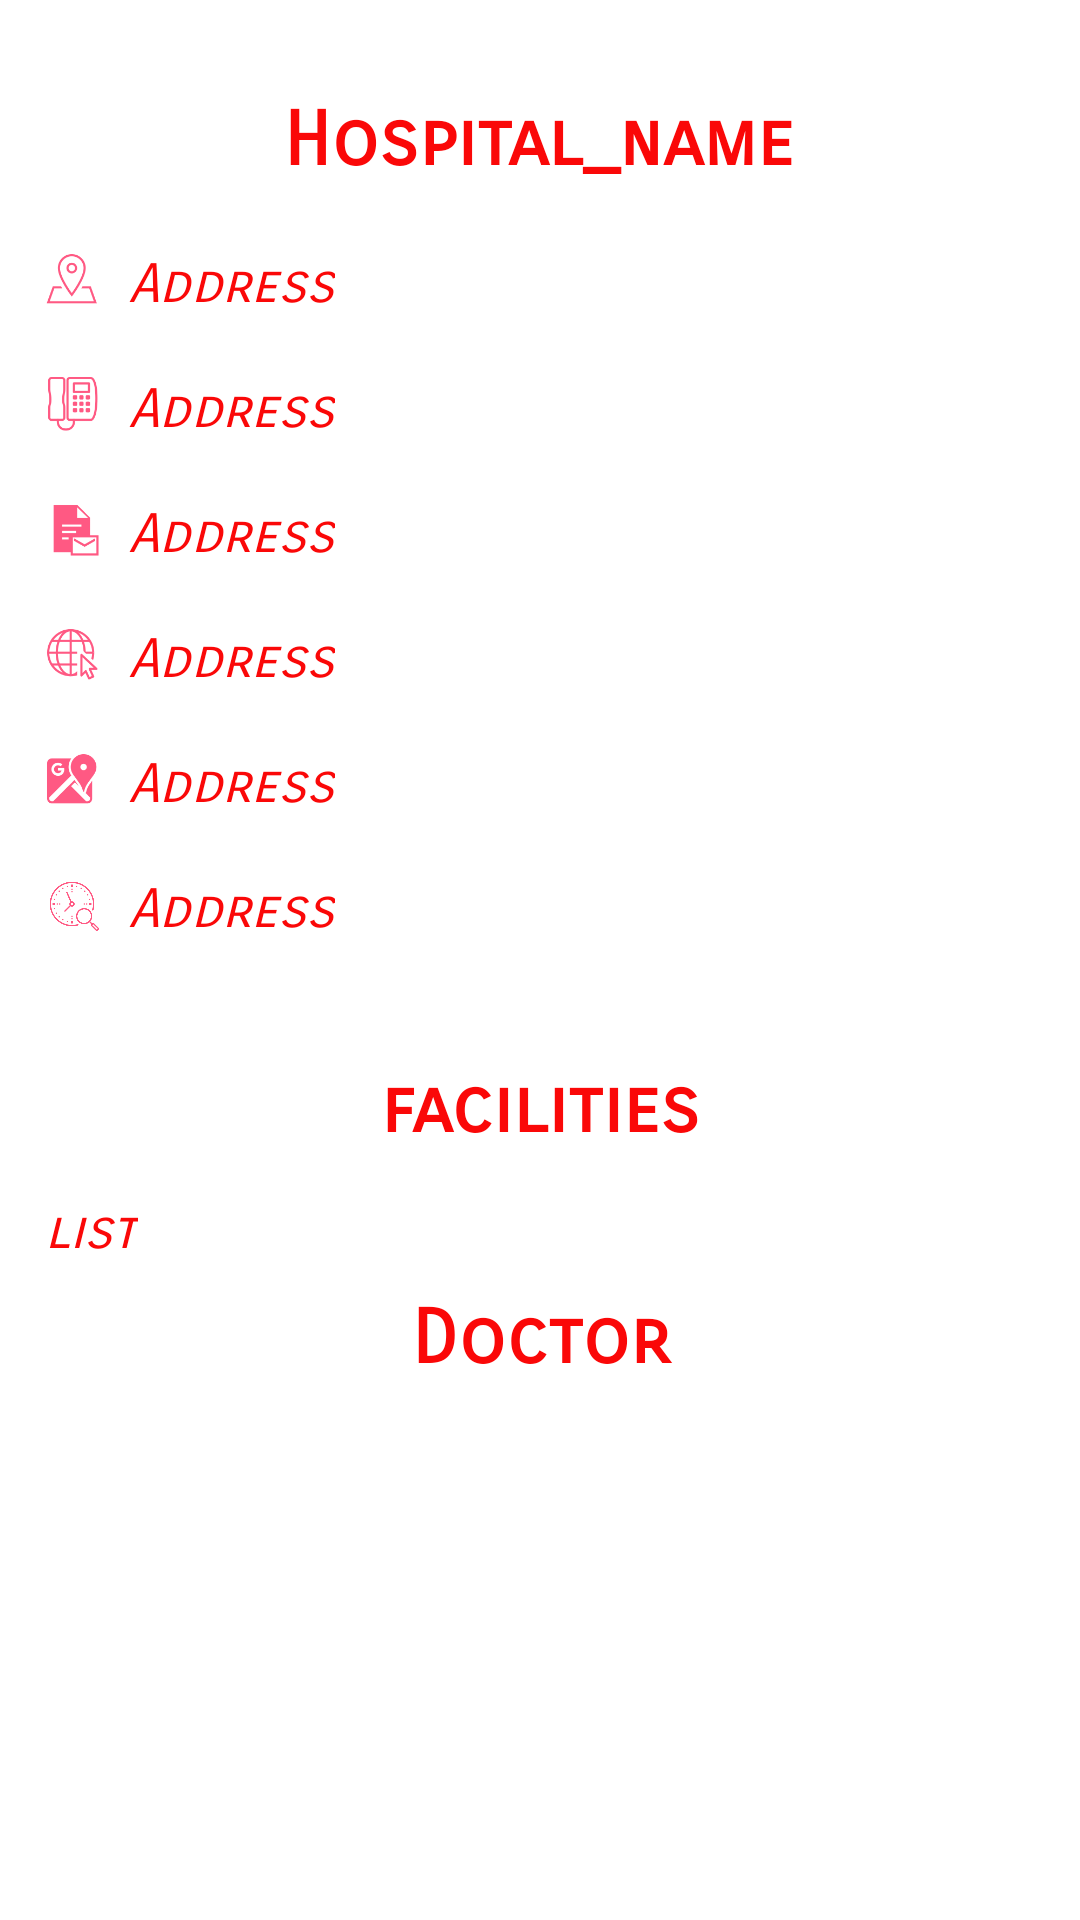

Named icons in this screenshot (1080 × 1920) and their centers, (x=x, y=y):
contect: (x=73, y=404)
email: (x=76, y=530)
time: (x=74, y=906)
website: (x=72, y=654)
